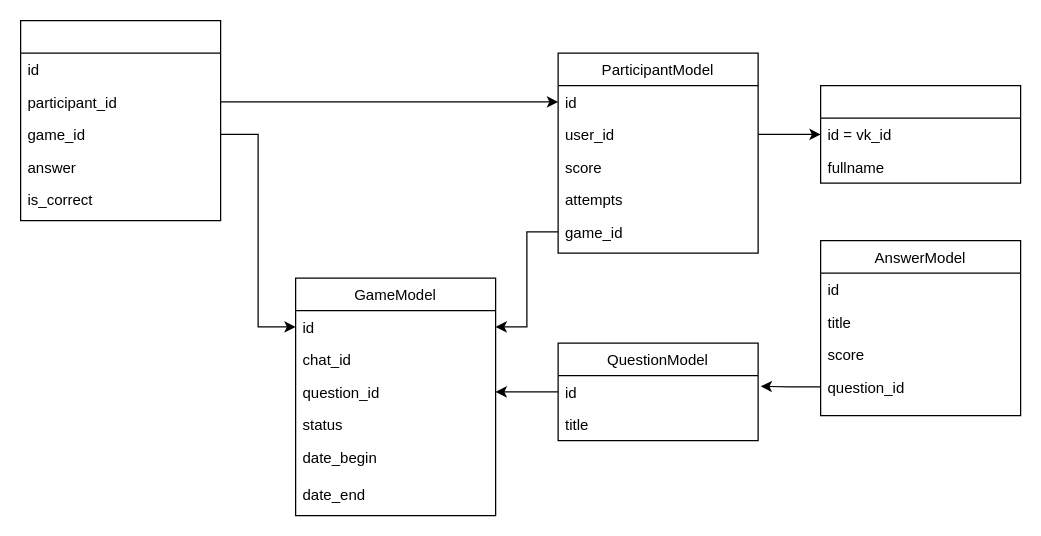
Image size: 1041x536. Some labels were removed from this diagram. The box of each missing label's shape, as (x1, y1, x2, y2) in pixels:
GameAnswersModel: (19, 19, 221, 221)
UserModel: (819, 84, 1021, 183)
